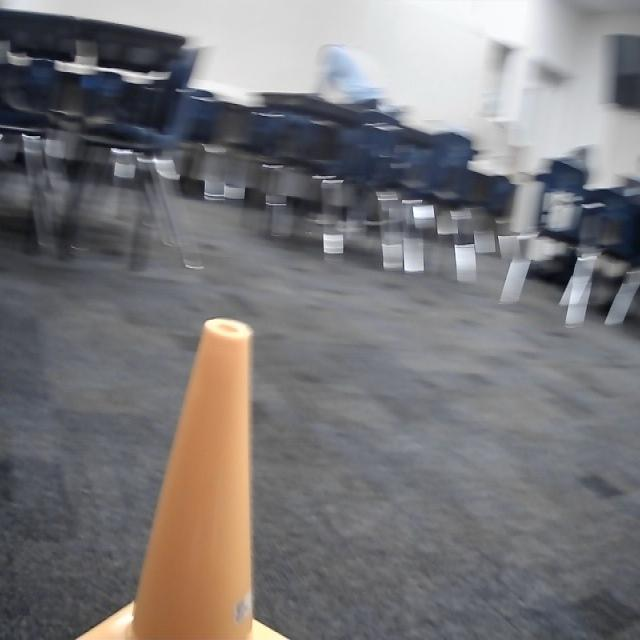cone: (73, 319, 289, 640)
